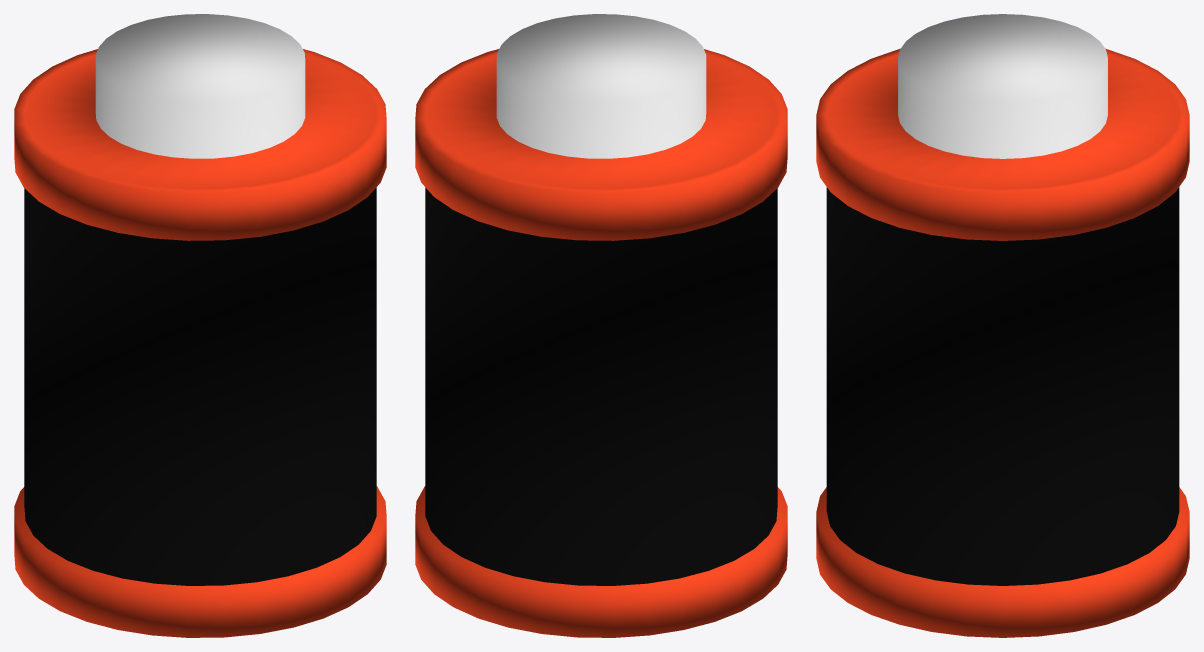
The model's file is power_cell.glb.
3 views of the same model, side by side, from view 1: azimuth 30°, elevation 25°; view 2: azimuth 150°, elevation 25°; view 3: azimuth 270°, elevation 25° (orthographic).
Parts seen in each view (by area): view 1: Cylinder; view 2: Cylinder; view 3: Cylinder.
Boxes of the visible parts, bbox=[...] form: Cylinder: bbox=[14, 14, 386, 637]; Cylinder: bbox=[415, 14, 787, 637]; Cylinder: bbox=[816, 14, 1189, 637].
Bounding box in the file's own units: 0.2335 × 0.3458 × 0.2335.
